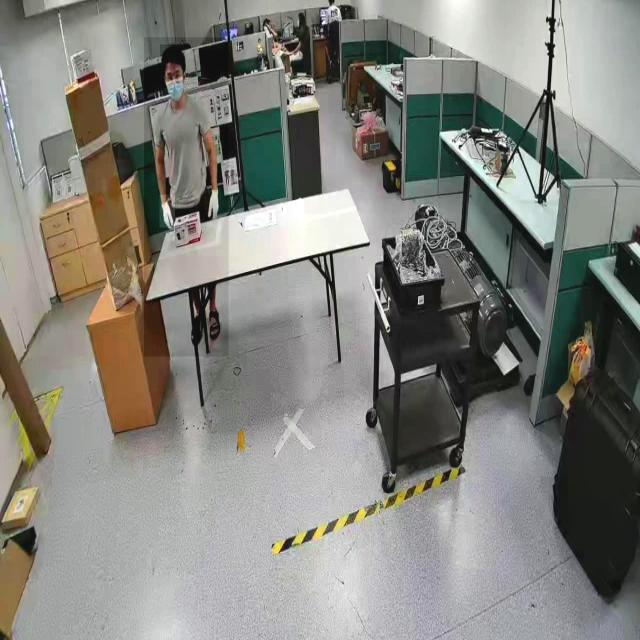face_mask: (165, 62, 183, 100)
hand_glove: (160, 194, 176, 228), (209, 184, 223, 221)
head_nohelmet: (160, 44, 185, 61)
person: (144, 38, 229, 358)
